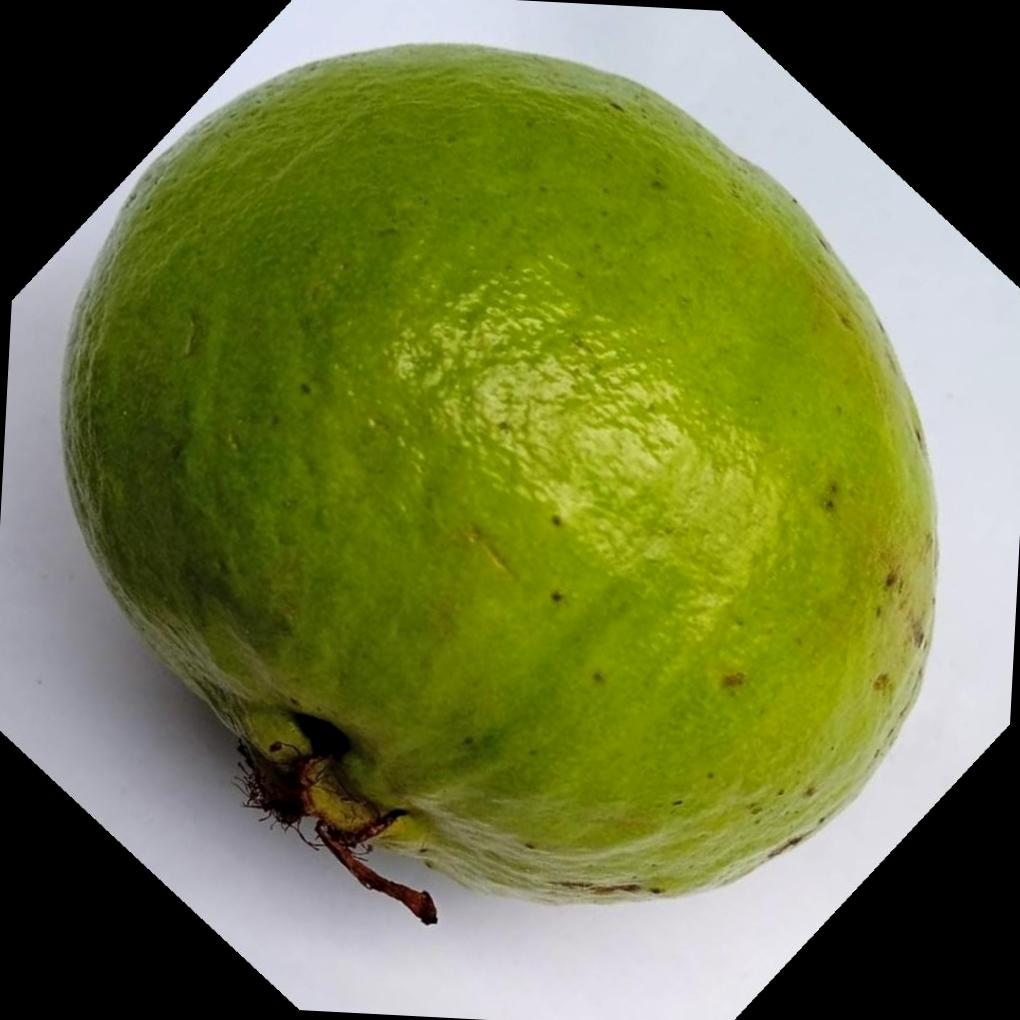FreshGuava: (55, 37, 938, 916)
